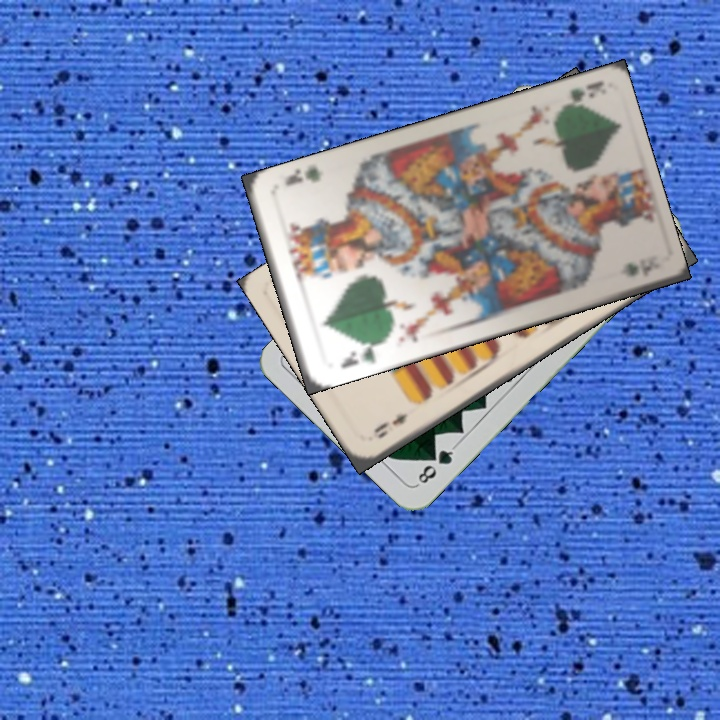E9: (369, 409, 411, 442)
G8: (413, 441, 458, 488)
GK: (551, 77, 605, 116), (336, 338, 381, 371)
